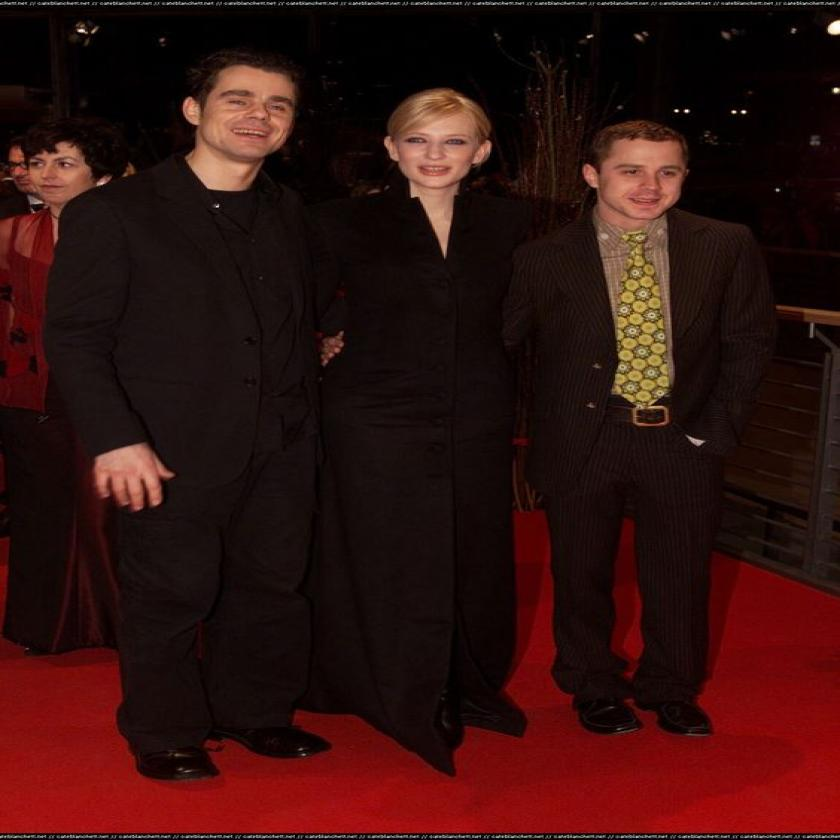Sin_casco: (182, 49, 309, 178), (577, 121, 696, 236), (386, 86, 494, 203)
